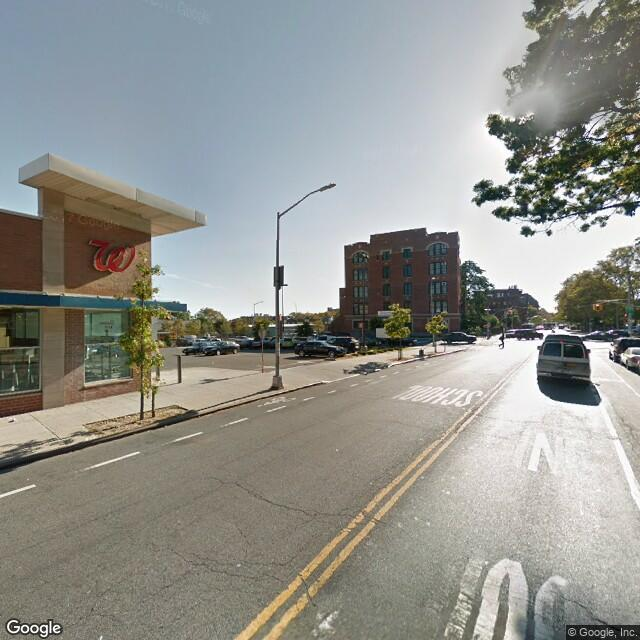litter: (6, 415, 16, 421)
